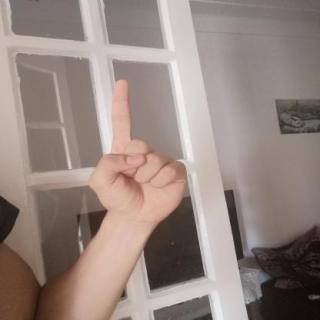BAA: (80, 72, 198, 228)
